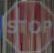Stop: (3, 0, 50, 52)
